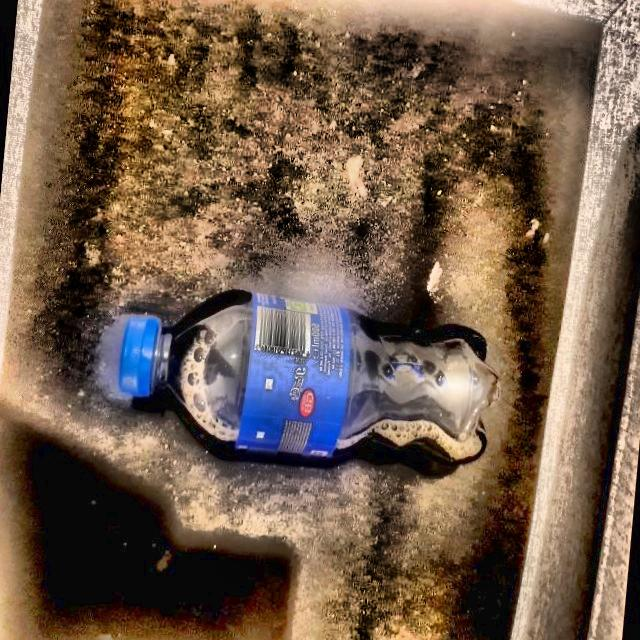pepsi-bottle: (110, 289, 492, 476)
